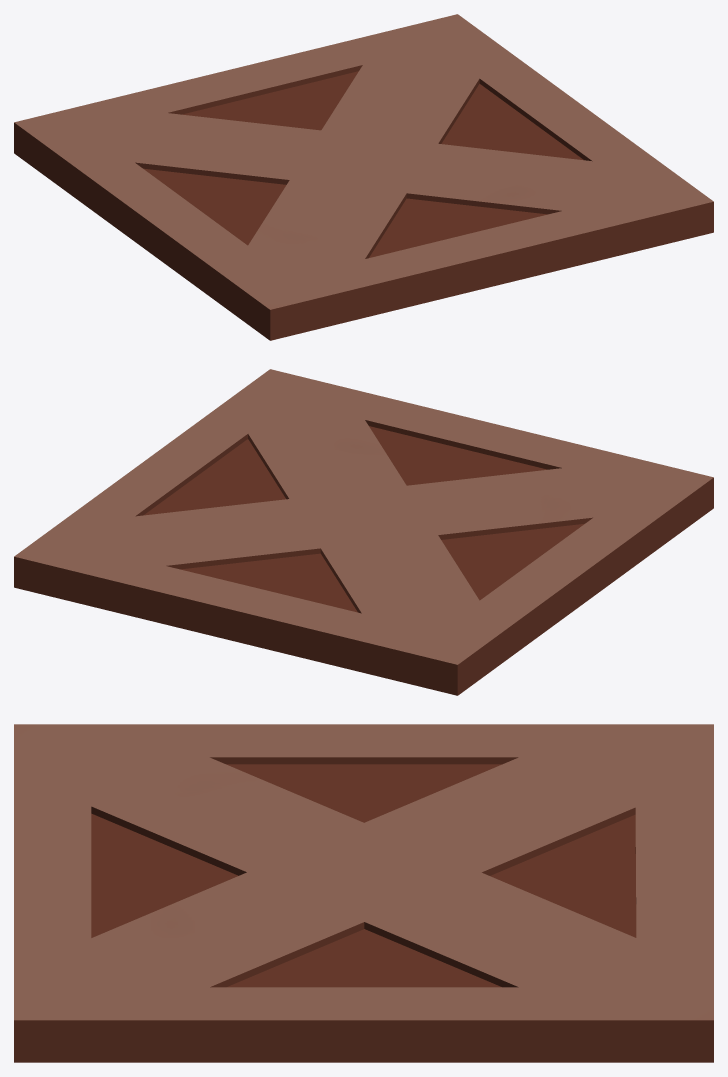
File: Exit.obj
3 views of the same model, one above another, from view 1: azimuth 30°, elevation 25°; view 2: azimuth 150°, elevation 25°; view 3: azimuth 270°, elevation 25° (orthographic). The views are drawn at different scales.
Parts seen in each view (by area): view 1: Exit_立方体; view 2: Exit_立方体; view 3: Exit_立方体.
Part boxes in pixels (<box>): Exit_立方体: <box>14,14,713,340</box>; Exit_立方体: <box>14,369,713,695</box>; Exit_立方体: <box>14,724,713,1062</box>.
Bounding box in the file's own units: 1.8 × 0.12 × 1.8.
Materials: 1 (1 with a texture image).
